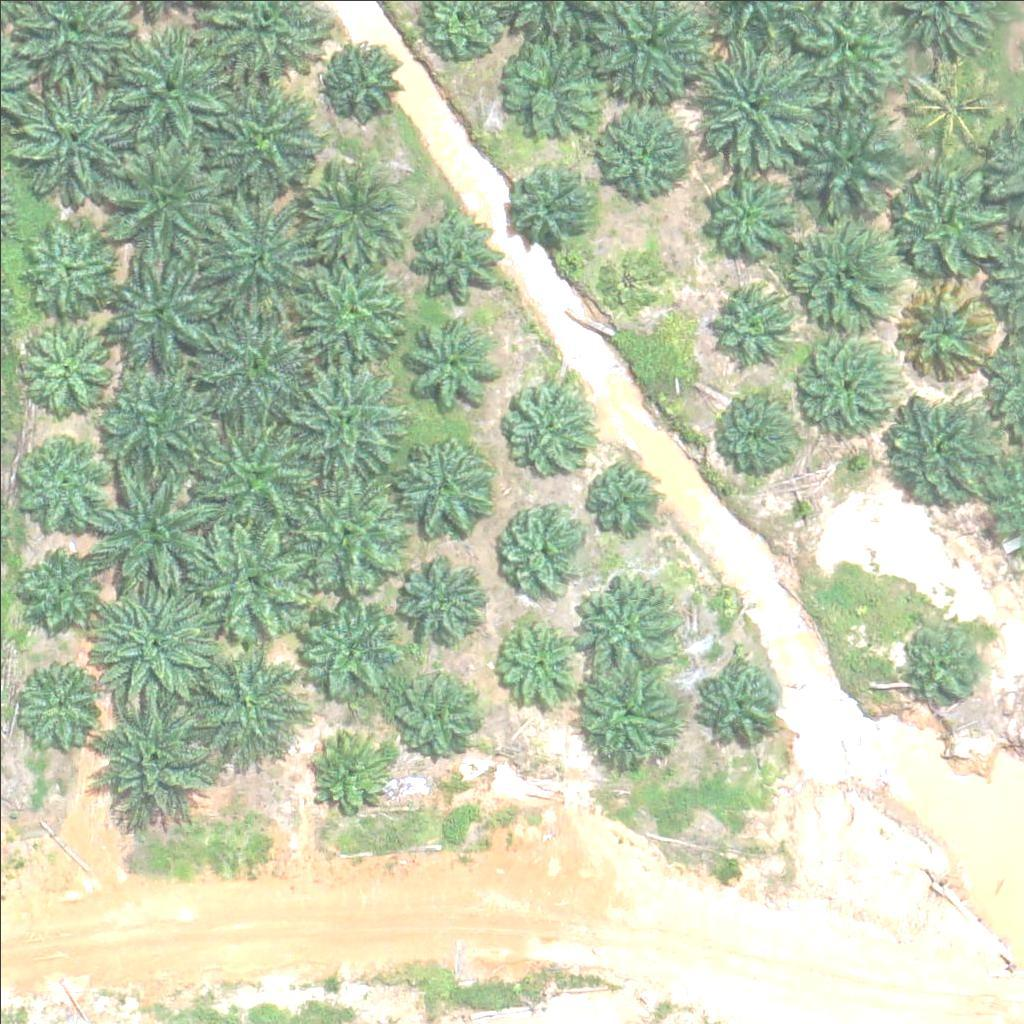Kelapa_Sawit: (1, 75, 126, 201), (101, 250, 226, 376), (88, 700, 213, 826), (93, 579, 218, 705), (92, 467, 217, 593), (88, 352, 213, 478), (179, 644, 304, 770), (184, 519, 309, 645), (191, 416, 316, 542), (190, 303, 315, 429), (194, 195, 319, 321), (282, 470, 407, 596), (878, 390, 1003, 516), (884, 156, 1009, 282), (782, 214, 907, 340), (698, 40, 823, 166), (107, 25, 232, 150), (99, 137, 224, 262), (783, 99, 908, 224), (895, 54, 1008, 168), (212, 86, 325, 199), (888, 274, 1001, 387), (498, 21, 611, 134), (788, 323, 900, 437), (297, 159, 409, 272), (293, 266, 405, 379), (293, 367, 405, 480), (12, 427, 112, 528), (17, 317, 117, 418), (20, 217, 120, 318), (297, 597, 397, 698), (401, 316, 501, 417), (402, 209, 502, 310), (574, 573, 674, 674), (578, 666, 678, 767), (699, 171, 799, 272), (596, 96, 696, 197), (10, 657, 110, 757), (396, 436, 496, 536), (387, 669, 475, 757), (494, 614, 582, 702), (497, 501, 585, 589), (505, 378, 593, 466), (695, 654, 783, 742), (507, 166, 594, 255), (897, 613, 984, 701), (578, 454, 665, 542), (18, 540, 105, 628), (308, 726, 395, 814), (394, 550, 481, 638), (704, 284, 791, 372), (709, 389, 796, 477), (590, 243, 665, 319), (324, 41, 399, 116)
